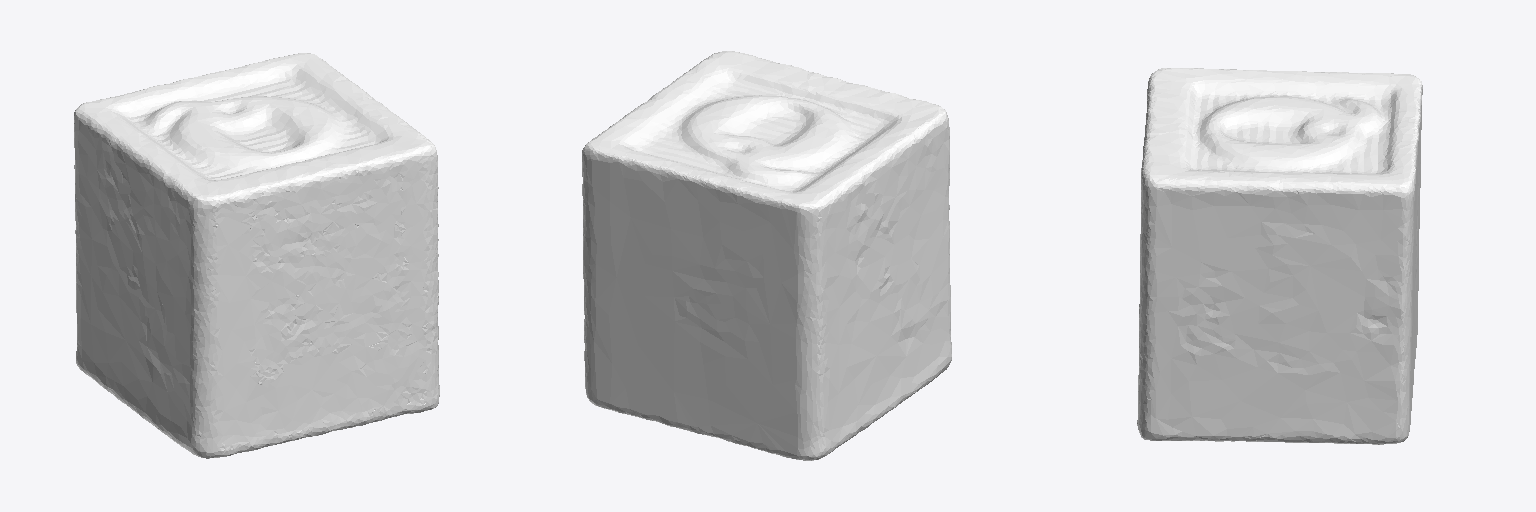
File: Granimals_20_Wooden_ABC_Blocks_Wagon_85VdSftGsLi_visual.obj
3 views of the same model, side by side, from view 1: azimuth 30°, elevation 25°; view 2: azimuth 150°, elevation 25°; view 3: azimuth 270°, elevation 25° (orthographic).
Bounding box in the file's own units: 0.0786 × 0.08 × 0.0781.